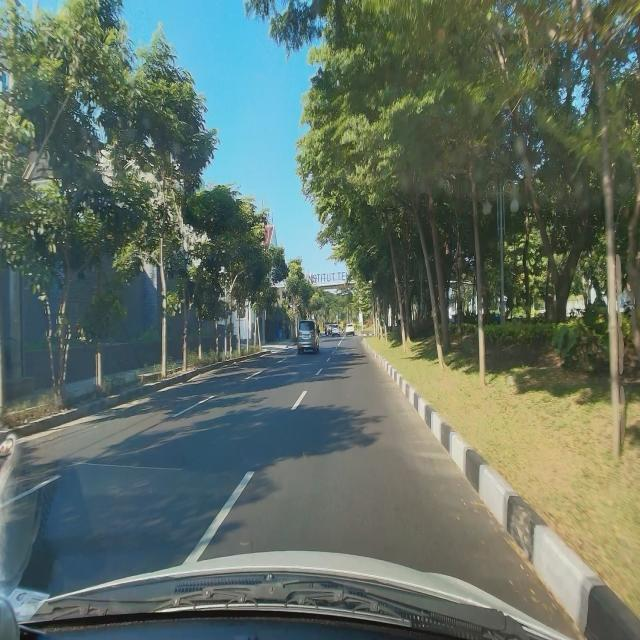car: (297, 320, 319, 355)
license-plate: (303, 334, 309, 338)
